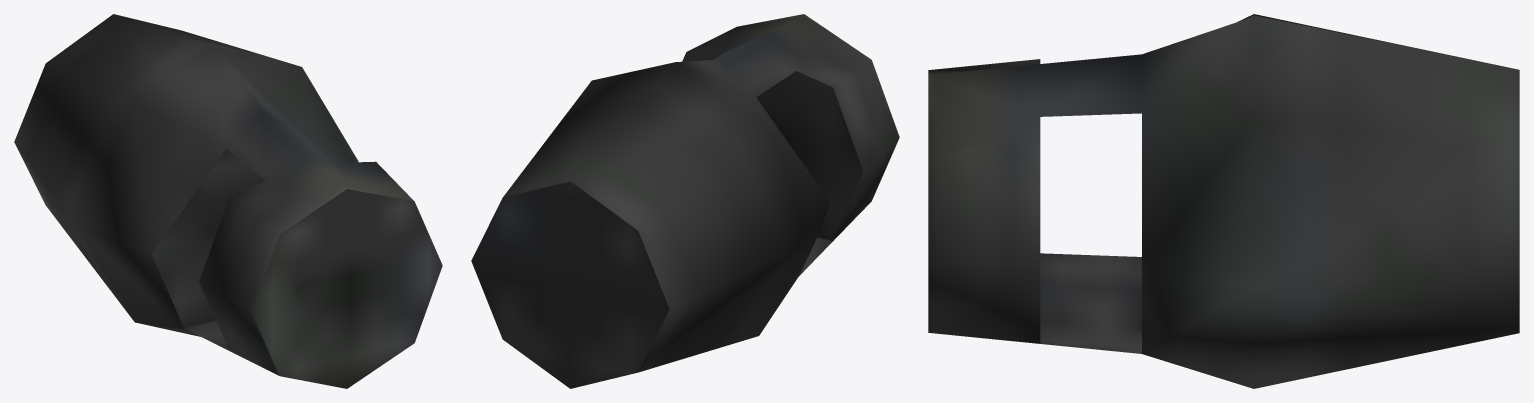
The model's file is Sniper_Rifle_Object002_Stock_LOD_(000139).glb.
3 views of the same model, side by side, from view 1: azimuth 30°, elevation 25°; view 2: azimuth 150°, elevation 25°; view 3: azimuth 270°, elevation 25° (orthographic). The views are drawn at different scales.
Parts seen in each view (by area): view 1: Object002; view 2: Object002; view 3: Object002.
Boxes of the visible parts, <box> form: Object002: <box>14,14,442,388</box>; Object002: <box>471,14,899,388</box>; Object002: <box>928,14,1519,388</box>.
Bounding box in the file's own units: 0.0822 × 0.0822 × 0.1191.
Materials: 1 (1 with a texture image).
